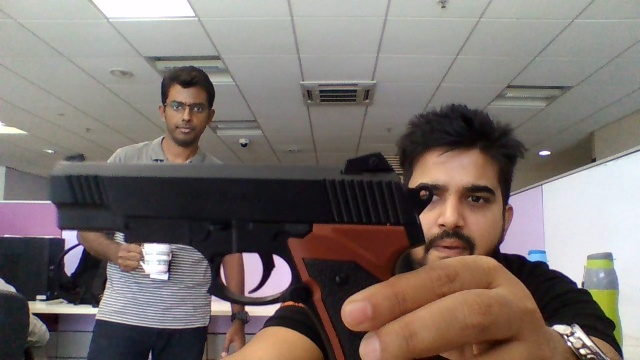gun: (47, 152, 430, 259)
